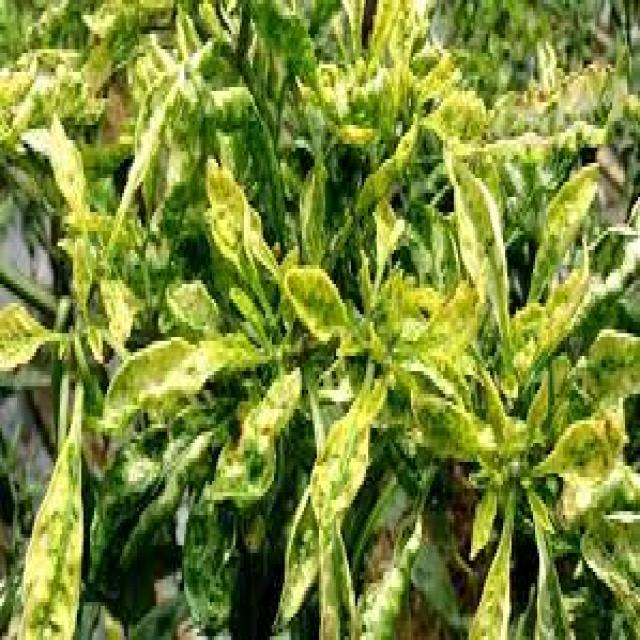virus_kuning: (441, 134, 537, 346), (17, 371, 92, 640), (102, 339, 240, 442)
